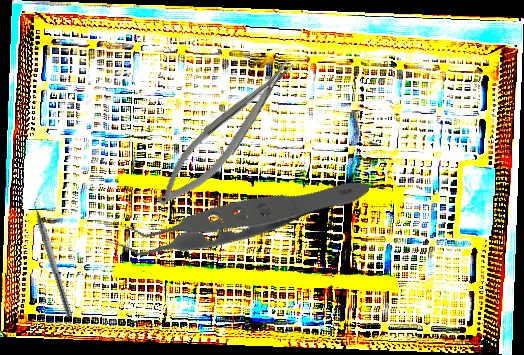Chopper: (27, 191, 81, 318)
Needle Holder: (144, 51, 310, 217)
Tissue Forceps: (101, 109, 371, 318)
